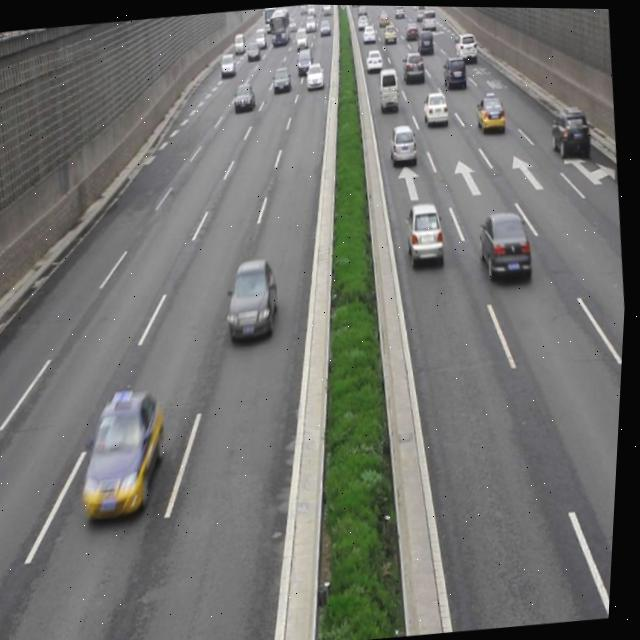car: (76, 385, 177, 523), (476, 207, 537, 285), (225, 258, 283, 340), (404, 200, 449, 272), (548, 102, 592, 160), (386, 119, 420, 169), (474, 90, 508, 130), (422, 91, 450, 126)
